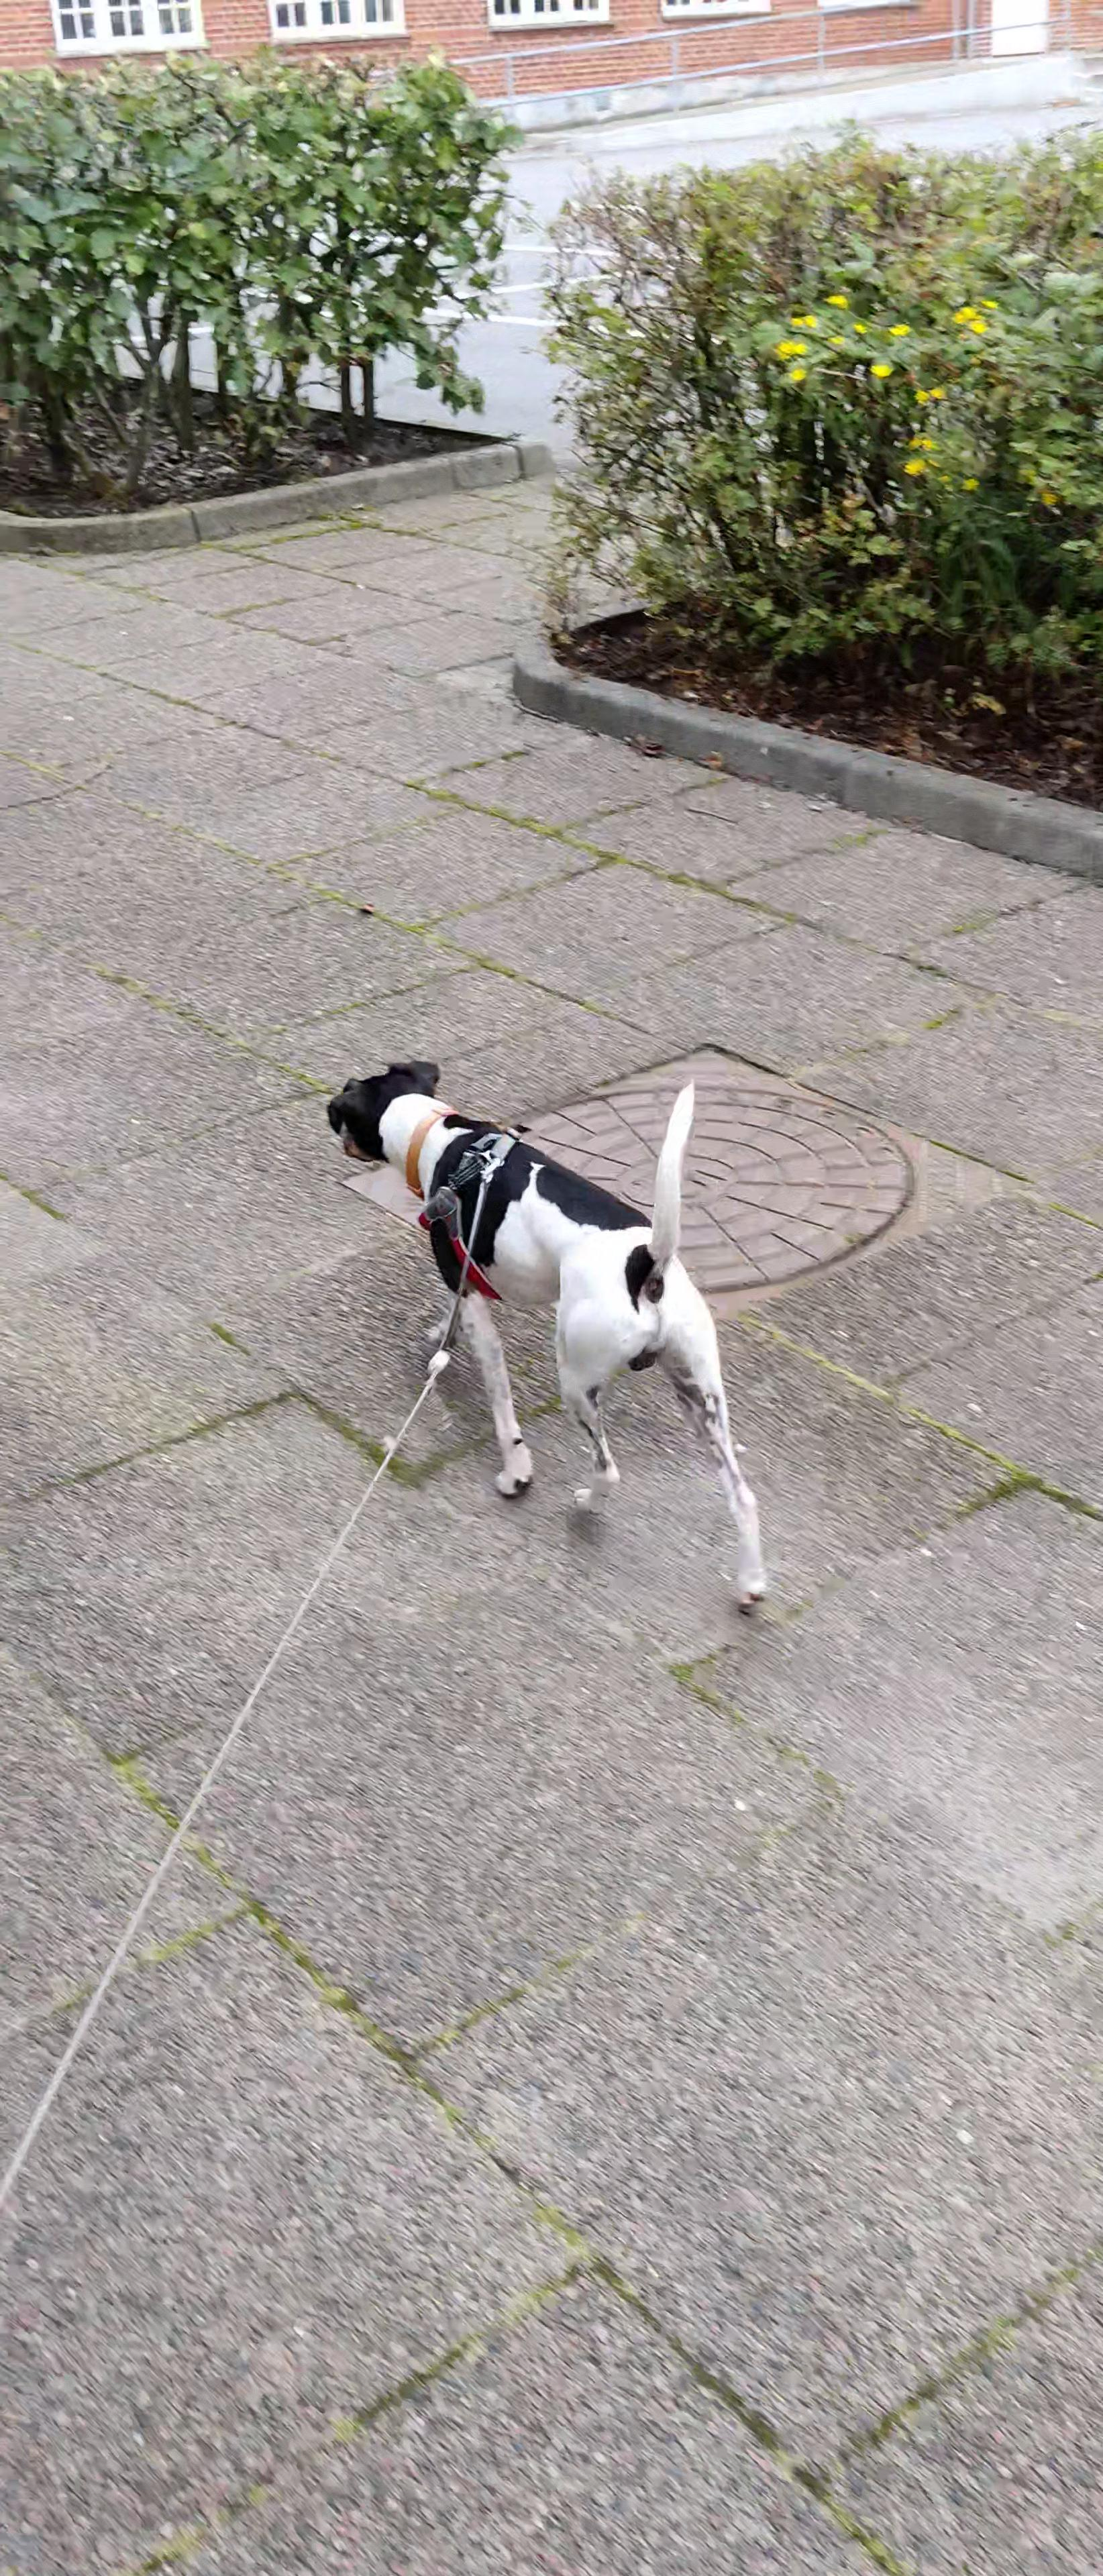Dog: (314, 1055, 774, 1628)
